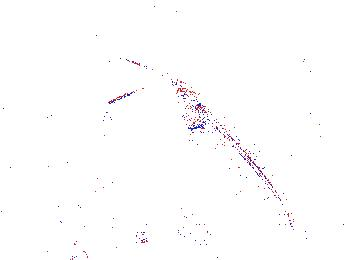glassfish: (168, 80, 318, 260)
